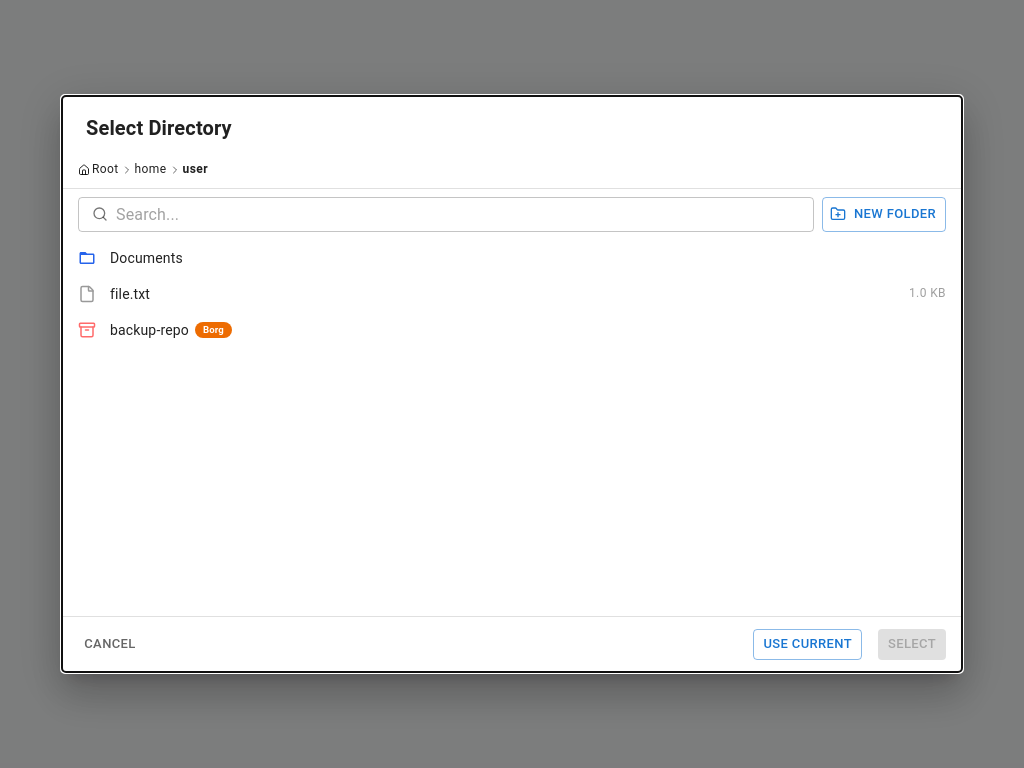
Test: FileExplorerDialog › Create Folder › disables Create button when folder name is empty
Check: the text "Documents" is shown, box x1=110 y1=248 x2=183 y2=268
Click the button "New Folder".
click(884, 214)  # box x1=822 y1=197 x2=946 y2=232
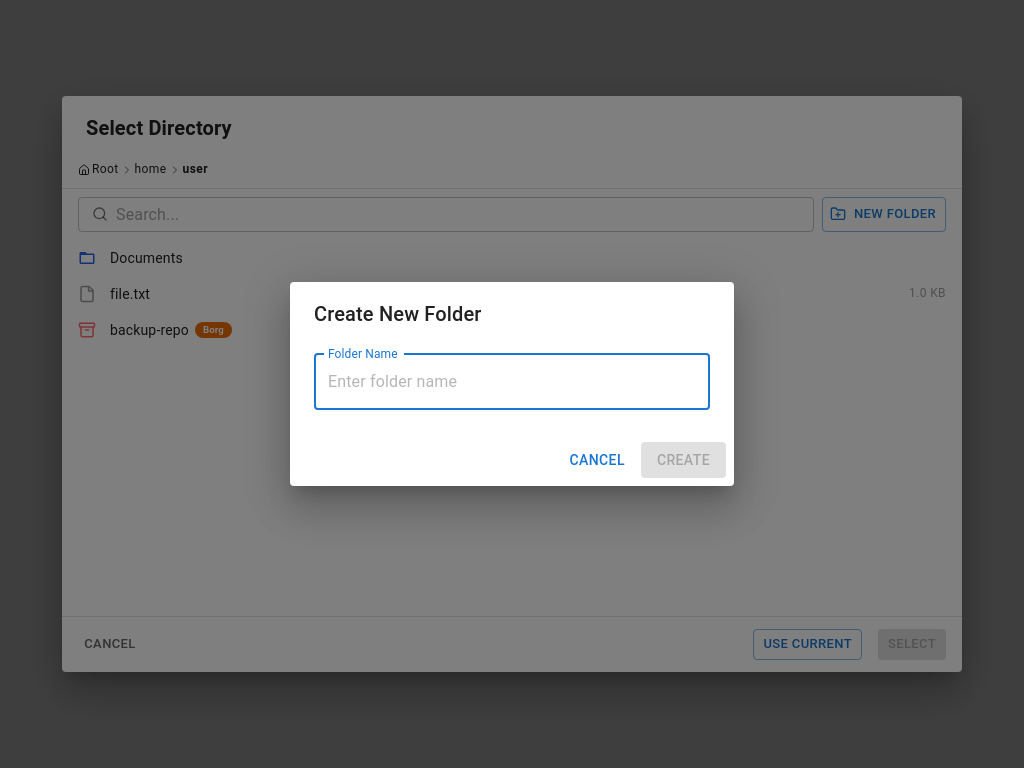
Check: the button "Create" is disabled, box x1=641 y1=442 x2=726 y2=478
